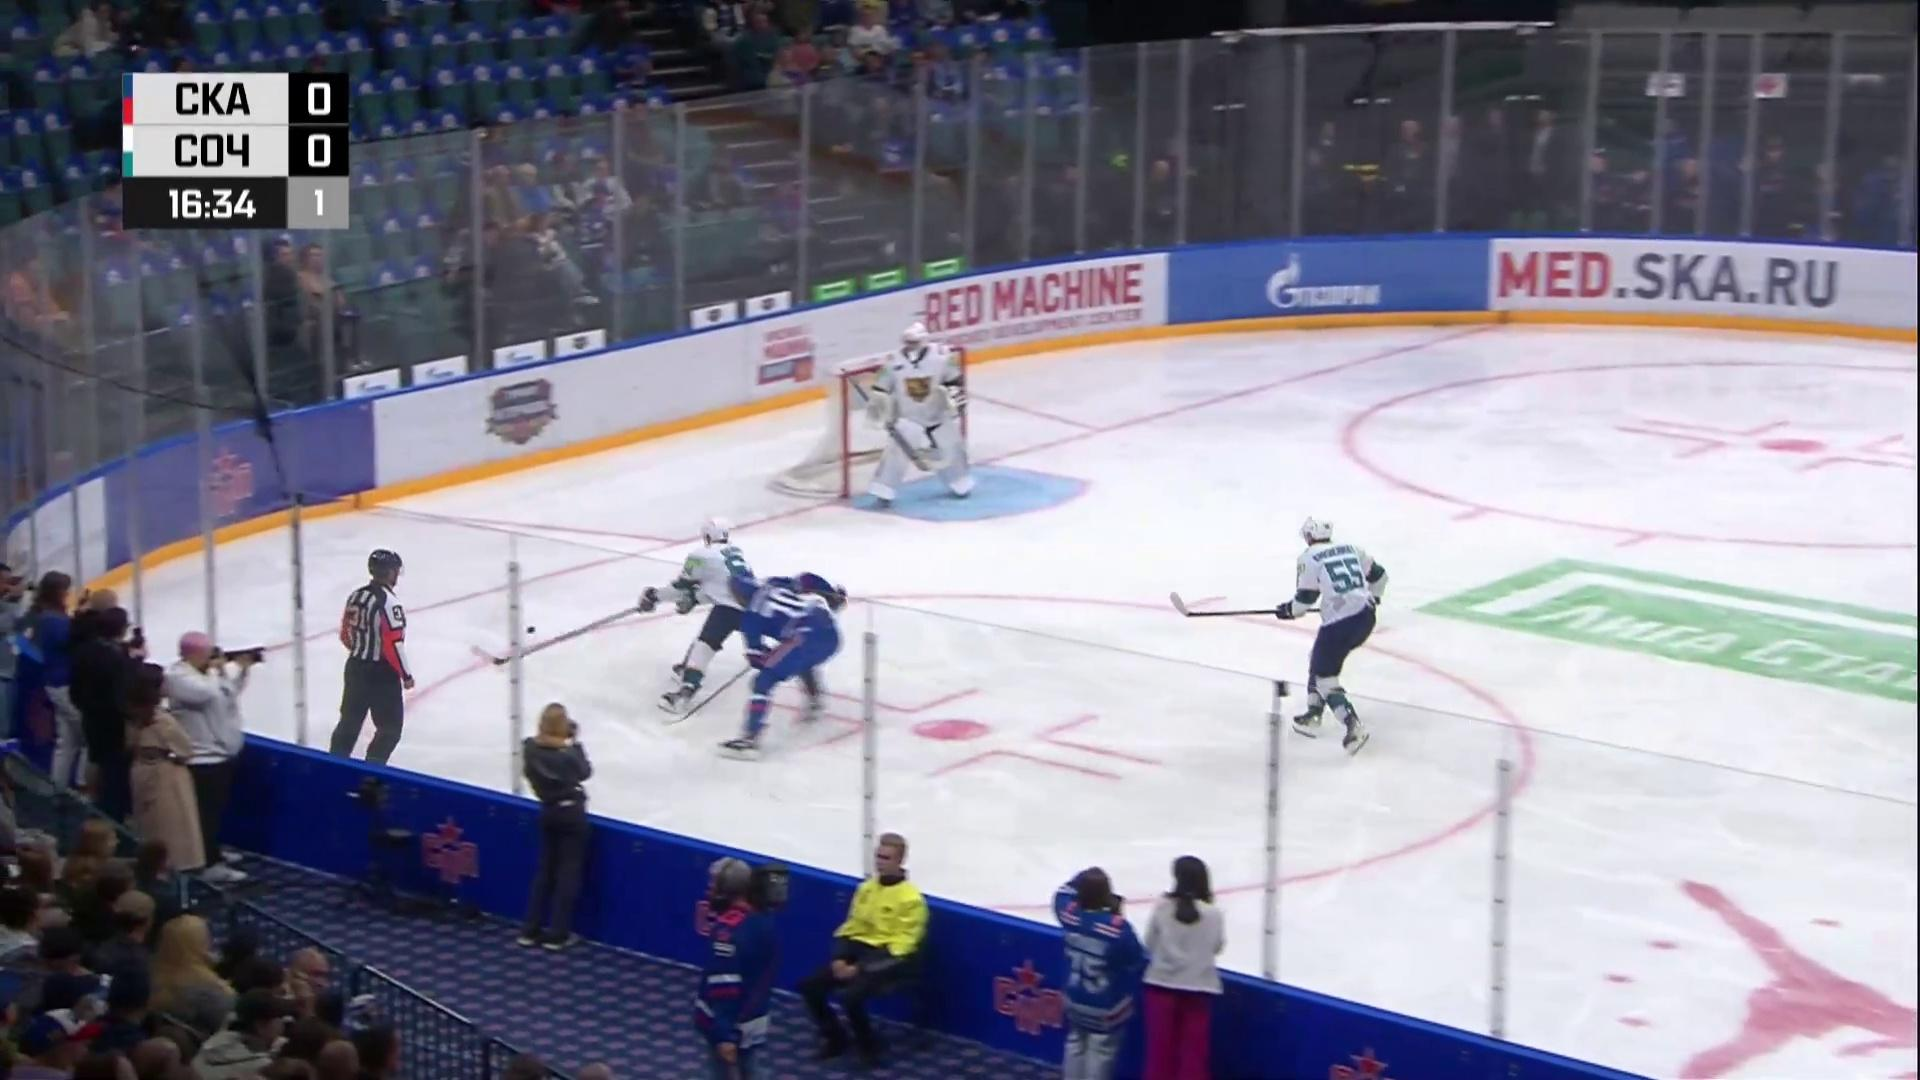ball: (526, 625, 537, 634)
